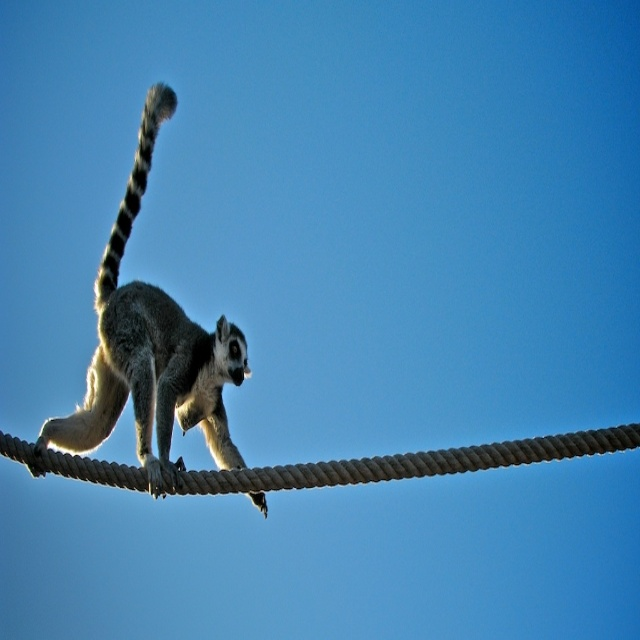Monkey: (29, 79, 268, 515)
